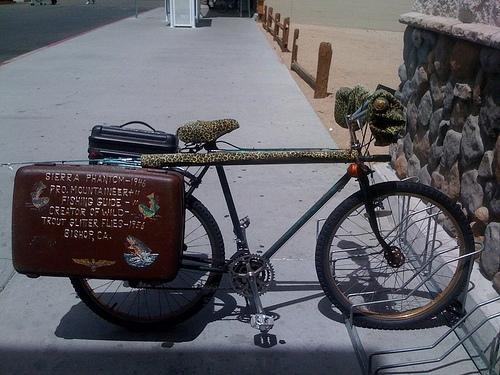bicycle: (65, 87, 478, 336)
